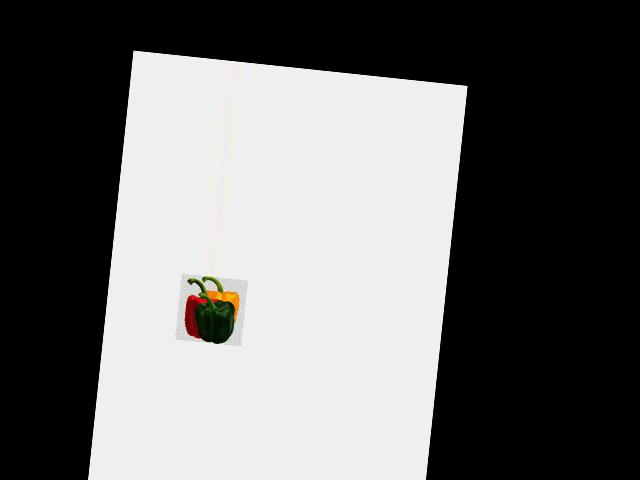bell_pepper: (174, 275, 219, 341)
